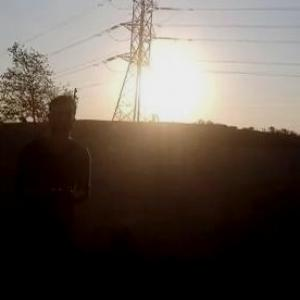follow: (11, 91, 97, 299)
